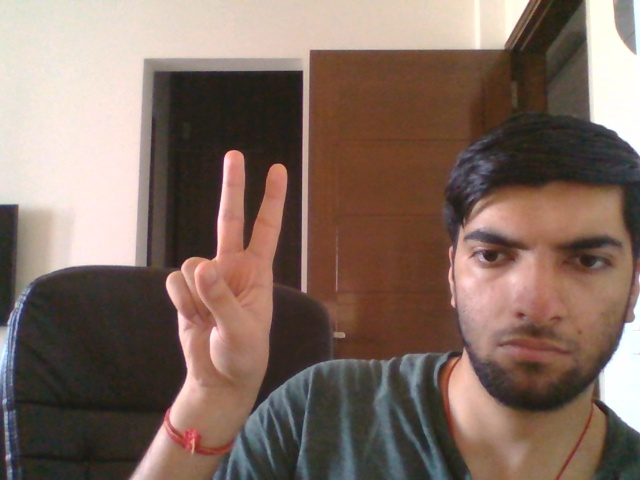LetterV: (162, 147, 289, 388)
